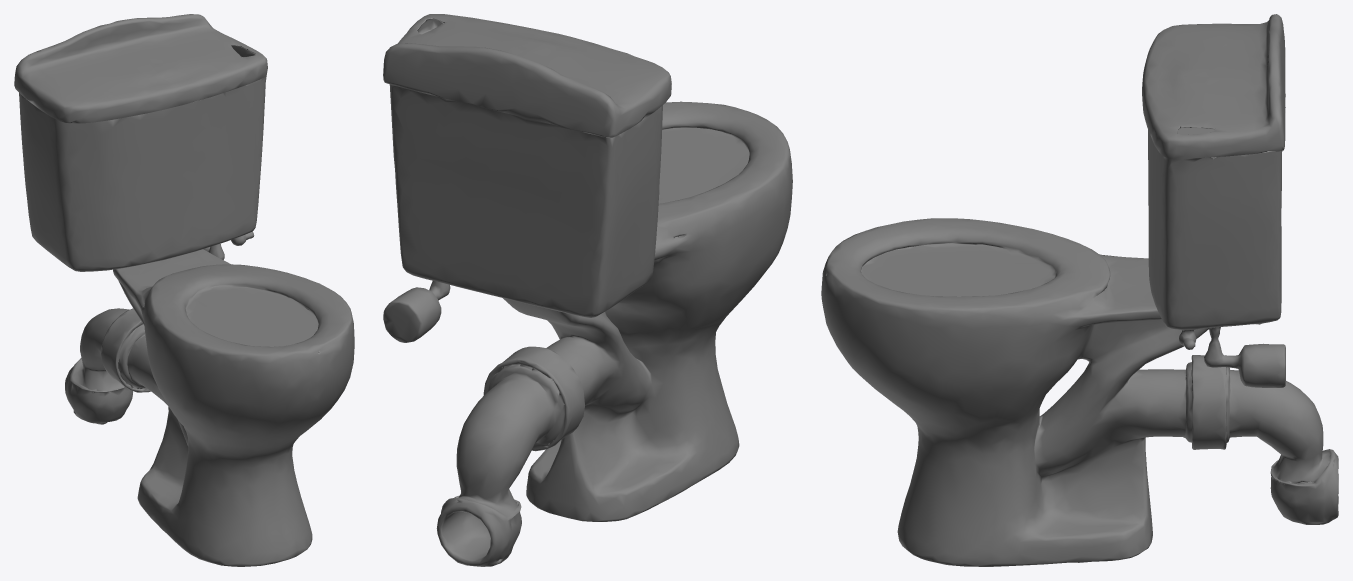
Rendered from toilet.glb.
3 renders of one model, left to right at view 1: azimuth 30°, elevation 25°; view 2: azimuth 150°, elevation 25°; view 3: azimuth 270°, elevation 25°, orthographic. The views are drawn at different scales.
Parts seen in each view (by area): view 1: world; view 2: world; view 3: world.
Boxes of the visible parts, left/top/right/bottom form: world: left=14, top=14, right=354, bottom=566; world: left=383, top=14, right=792, bottom=566; world: left=821, top=14, right=1338, bottom=566.
Bounding box in the file's own units: 0.5213 × 1 × 0.9612.
1 material, 1 textured.
